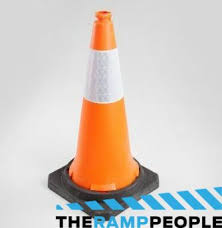cones: (48, 17, 159, 217)
